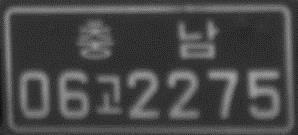0: (17, 67, 52, 120)
2: (125, 67, 160, 123), (166, 67, 201, 121)
5: (243, 67, 281, 122)
6: (56, 69, 91, 121)
7: (204, 68, 239, 121)
고: (91, 72, 125, 118)
충남_D: (73, 18, 220, 63)
